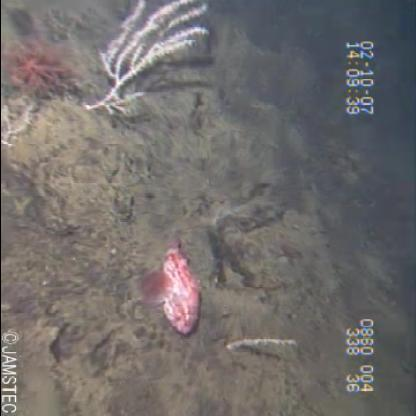Bio: (76, 0, 218, 122), (136, 229, 210, 341)
